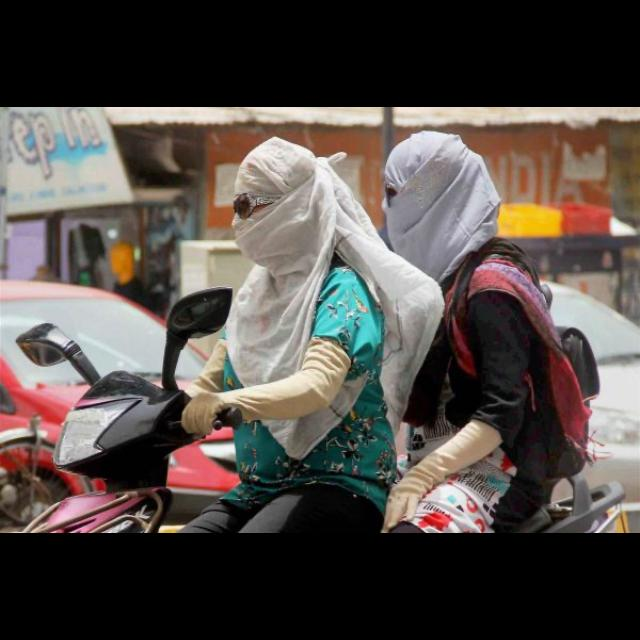Without Helmet: (220, 130, 348, 272)
